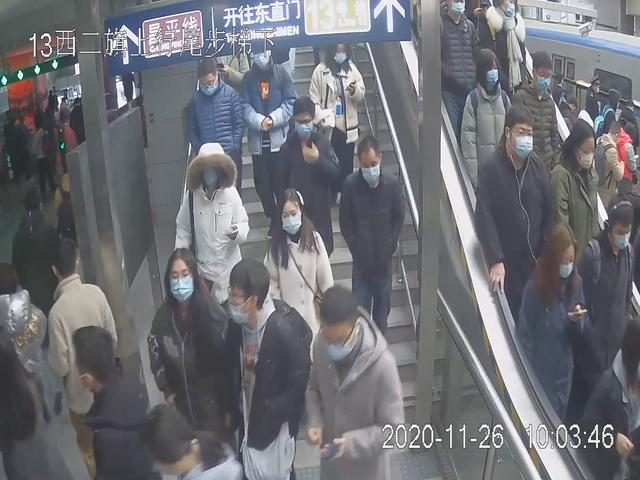person: (472, 102, 561, 348), (148, 245, 241, 475), (310, 278, 410, 480), (222, 258, 310, 480), (335, 132, 410, 349), (517, 224, 591, 431), (176, 140, 247, 352), (260, 188, 336, 381), (238, 35, 302, 252), (575, 196, 640, 405), (270, 94, 337, 278), (458, 45, 519, 237), (301, 32, 366, 204), (183, 52, 244, 227), (432, 1, 489, 186)
